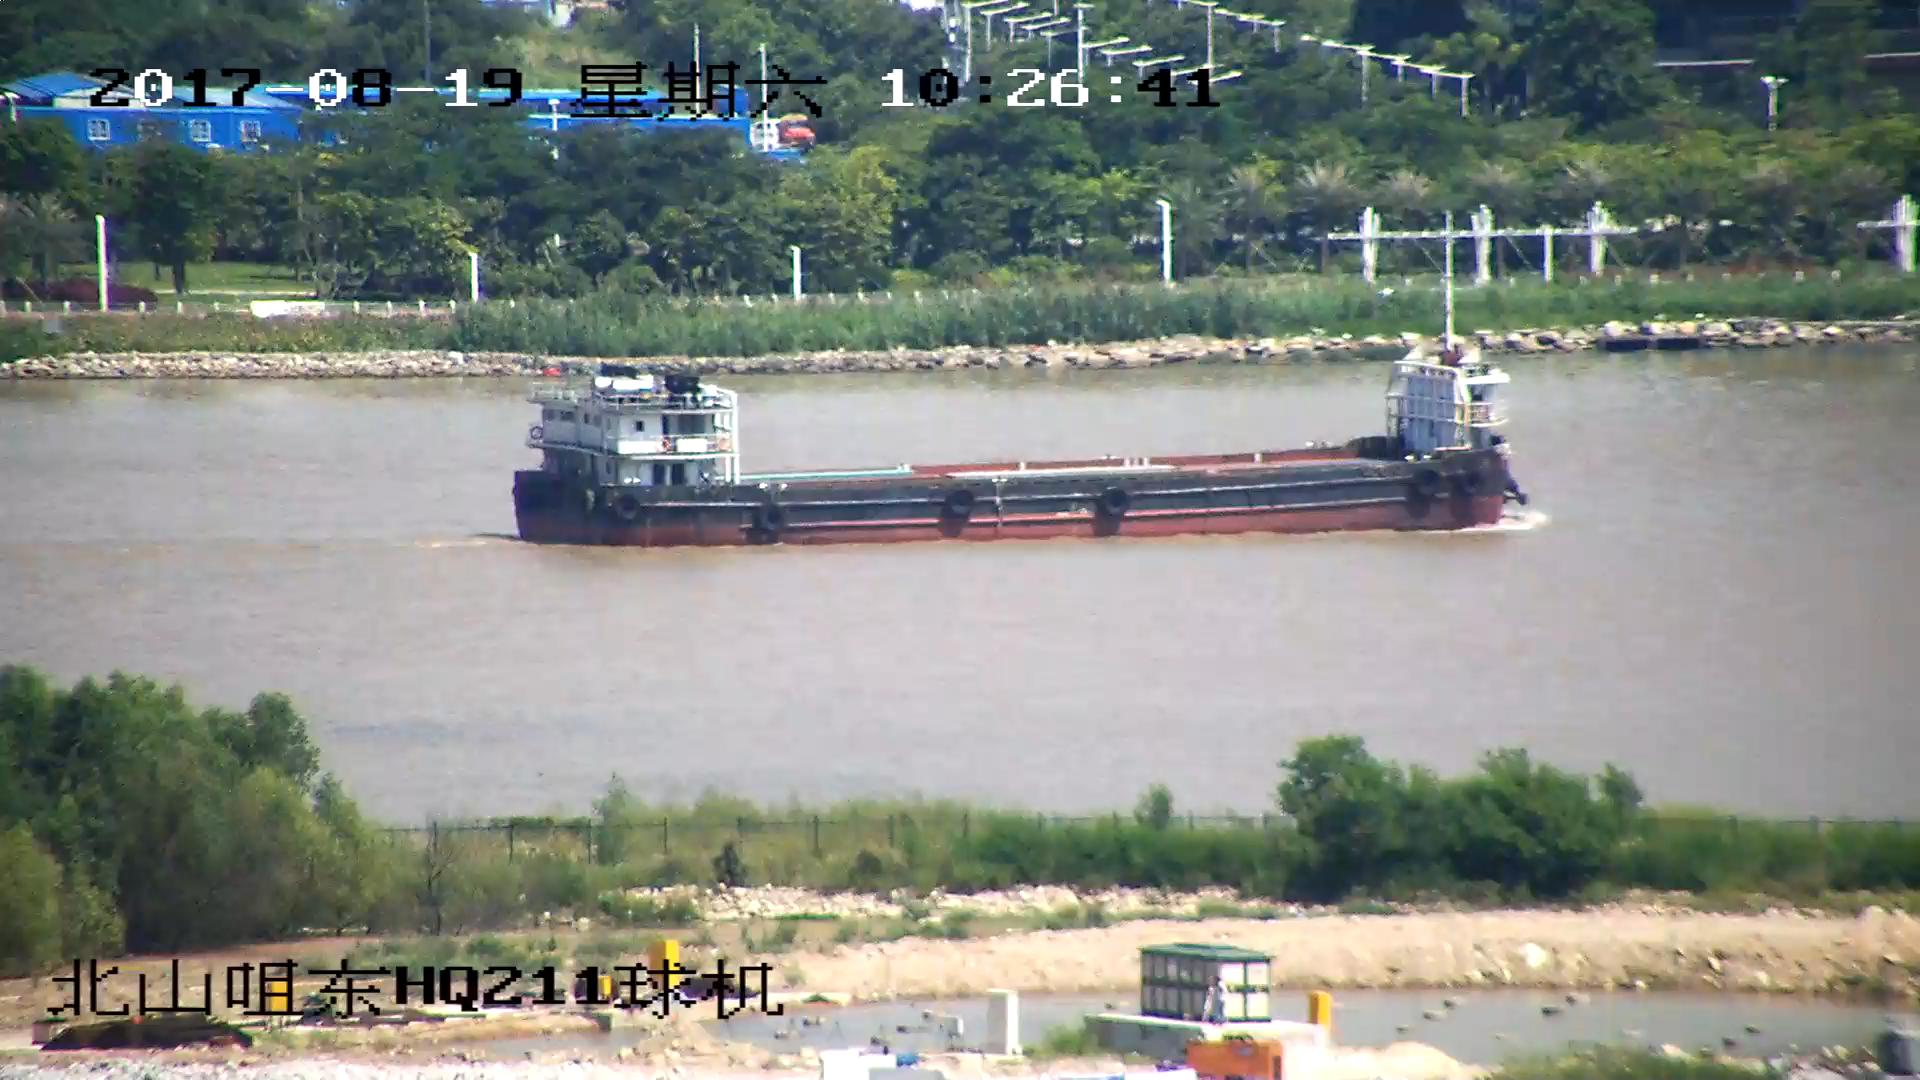general cargo ship: (513, 360, 1527, 543)
